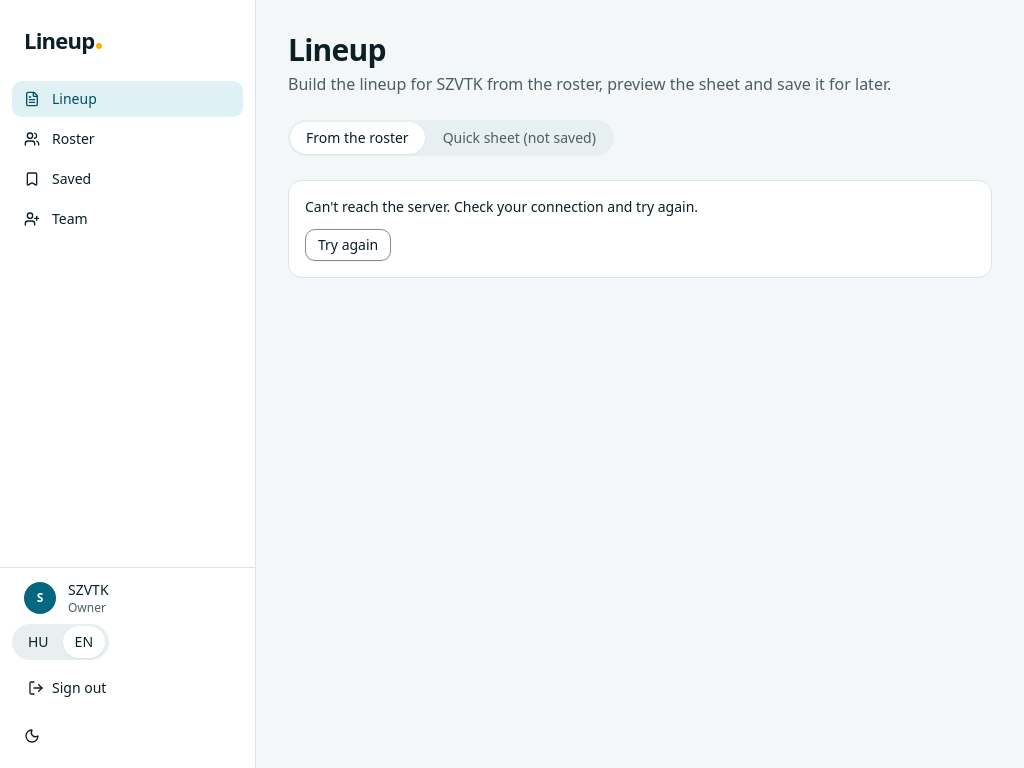
AppShell › switches the whole shell to Hungarian from the account panel
Click the button with aria-label "HU – Magyar".
click(38, 642)  # box [16,626,61,658]
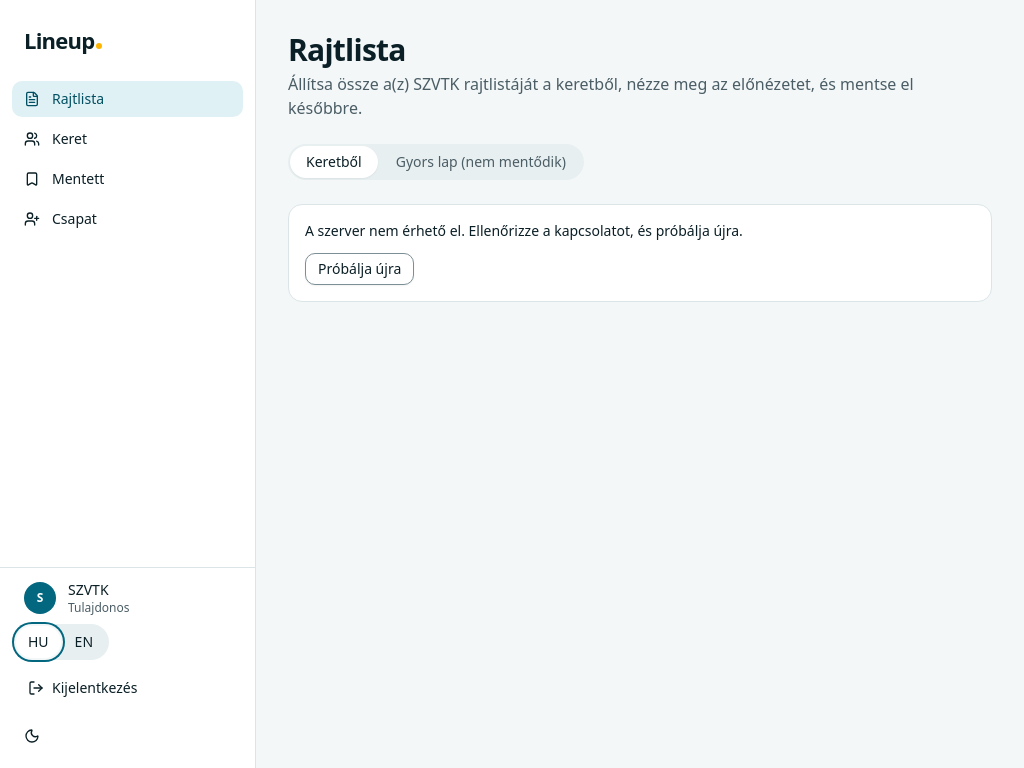
Now the links read "Rajtlista", "Keret", "Mentett", "Csapat", in this order, box [12,81,243,117]; [24,129,87,148]; [24,169,104,188]; [24,209,97,228]
Now the text "tulajdonos" is shown, box [68,600,130,616]
Now the button "Kijelentkezés" is shown, box [12,668,243,708]
